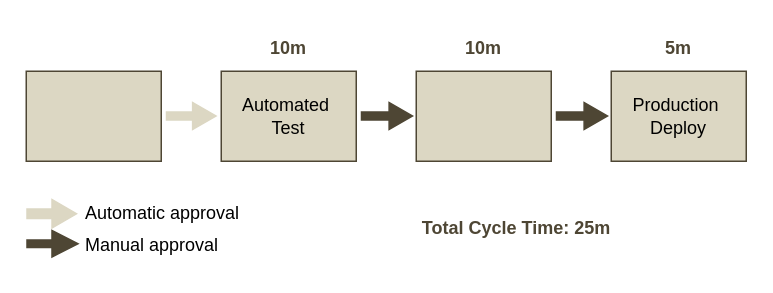
Image size: 773x293. Some labels were removed from this diagram. The centre of each missing label's shape, as x and y in pixels:
"Commit stage (automated)" belongs at (x=93, y=115).
"Exploratory Test" belongs at (x=483, y=115).
